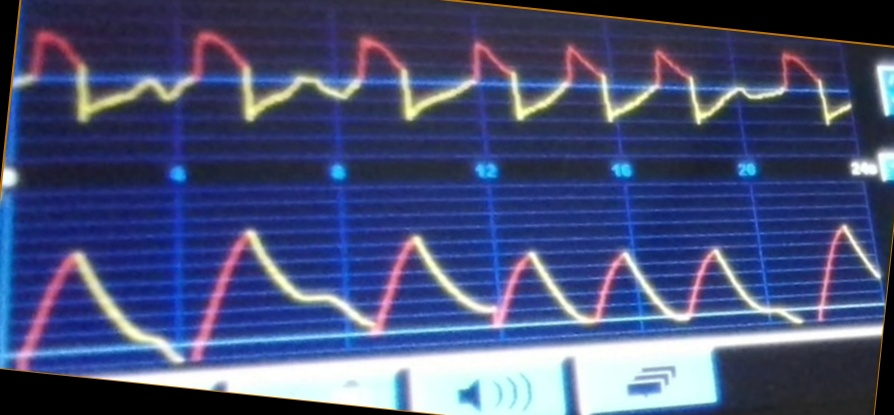Ineffective_effort Flow: (20, 27, 850, 133)
Ineffective_effort Volume: (17, 219, 877, 365)
